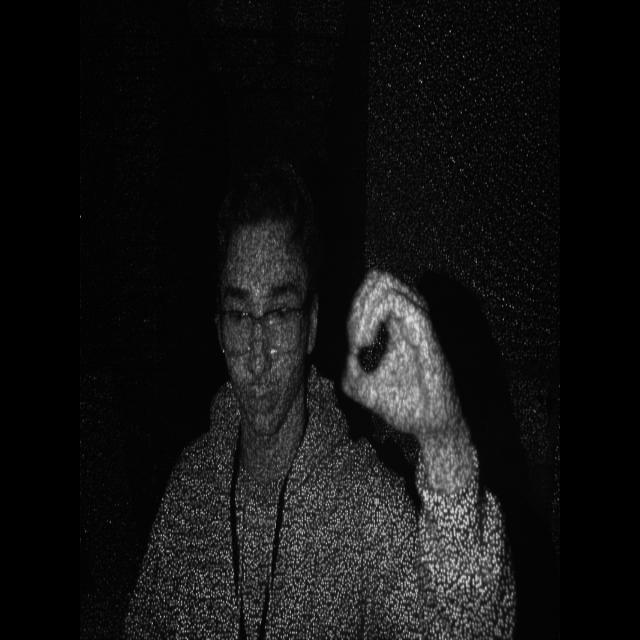O: (340, 244, 475, 456)
